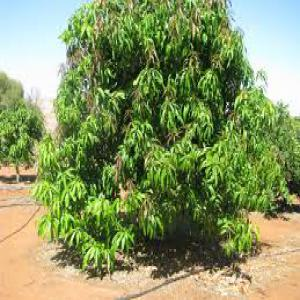Tree: (35, 0, 299, 283)
